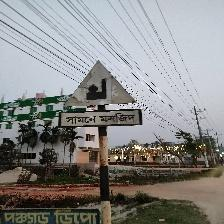Mosque in front: (63, 62, 139, 131)
